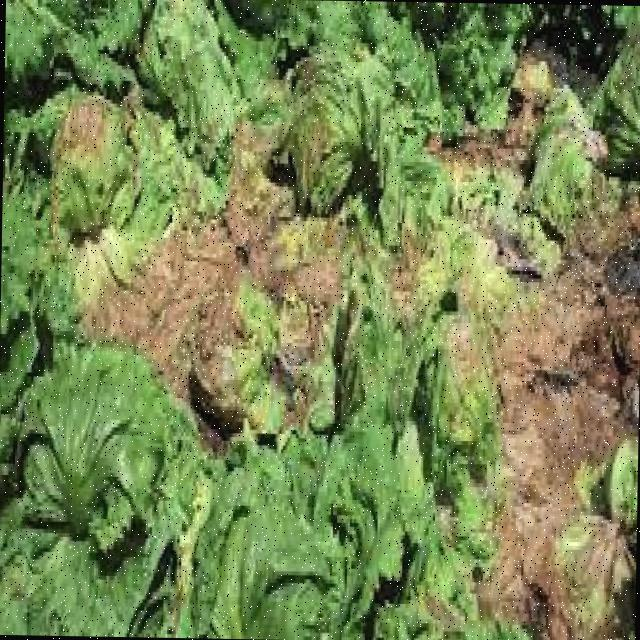Wilt_and_leaf_blight_on_lettuce: (404, 348, 610, 637), (60, 138, 247, 362)
